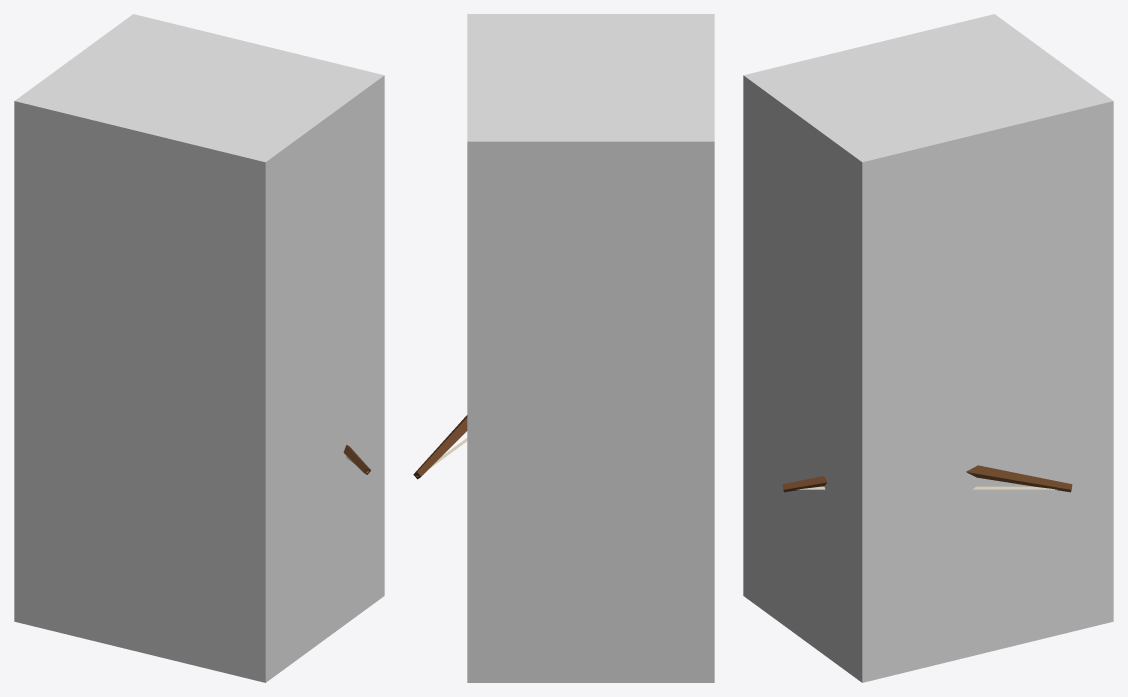
The model's file is plains_forest_archer.fbx.
3 renders of one model, left to right at view 1: azimuth 30°, elevation 25°; view 2: azimuth 150°, elevation 25°; view 3: azimuth 270°, elevation 25°, orthographic. The views are drawn at different scales.
Parts seen in each view (by area): view 1: Root__0.00_2.75_-0.07__2.28_5.50_2.78; view 2: Root__0.00_2.75_-0.07__2.28_5.50_2.78, ArmL__Torso__-0.85_3.70_0.00; view 3: Root__0.00_2.75_-0.07__2.28_5.50_2.78, ArmL__Torso__-0.85_3.70_0.00.
Boxes of the visible parts, x1=… form: Root__0.00_2.75_-0.07__2.28_5.50_2.78: x1=14, y1=14, x2=384, y2=682; Root__0.00_2.75_-0.07__2.28_5.50_2.78: x1=467, y1=14, x2=714, y2=682; ArmL__Torso__-0.85_3.70_0.00: x1=413, y1=415, x2=467, y2=479; Root__0.00_2.75_-0.07__2.28_5.50_2.78: x1=743, y1=14, x2=1113, y2=682; ArmL__Torso__-0.85_3.70_0.00: x1=782, y1=465, x2=1072, y2=492.
Size of the model in its own units: 94.1 by 155 by 99.23.
1 material, 1 textured.
